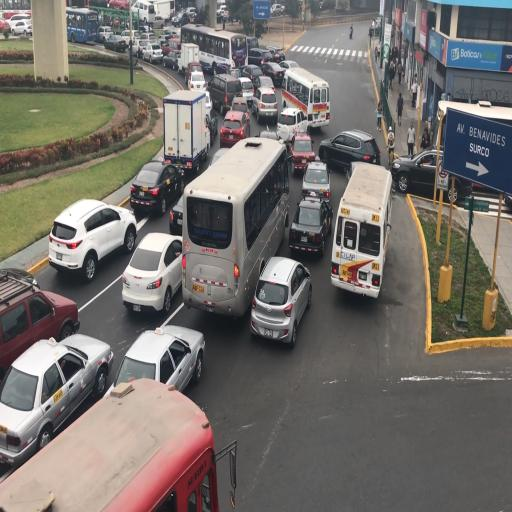auto: (0, 332, 113, 470), (1, 269, 78, 389), (48, 195, 136, 279), (110, 324, 204, 399), (121, 231, 185, 314), (391, 146, 474, 204), (54, 332, 113, 406), (129, 158, 184, 216), (321, 129, 378, 173), (46, 222, 84, 274), (288, 131, 318, 177), (301, 156, 330, 201), (219, 108, 250, 148), (276, 106, 306, 144), (252, 85, 278, 124), (234, 74, 256, 109), (240, 64, 266, 90), (261, 61, 286, 87), (130, 0, 154, 25), (247, 47, 273, 70), (116, 29, 140, 52), (142, 42, 164, 64), (161, 48, 182, 71), (160, 36, 181, 59), (230, 95, 250, 119), (255, 74, 275, 98), (9, 17, 33, 36), (171, 8, 193, 28), (264, 45, 286, 65), (137, 32, 153, 50), (158, 29, 174, 44), (270, 4, 281, 17), (186, 6, 198, 16)
bus: (434, 99, 512, 214), (162, 88, 209, 180), (178, 42, 200, 78), (244, 35, 260, 61)
moto: (181, 136, 286, 317), (332, 161, 390, 297), (282, 66, 328, 132), (182, 24, 234, 75), (66, 7, 101, 44)
